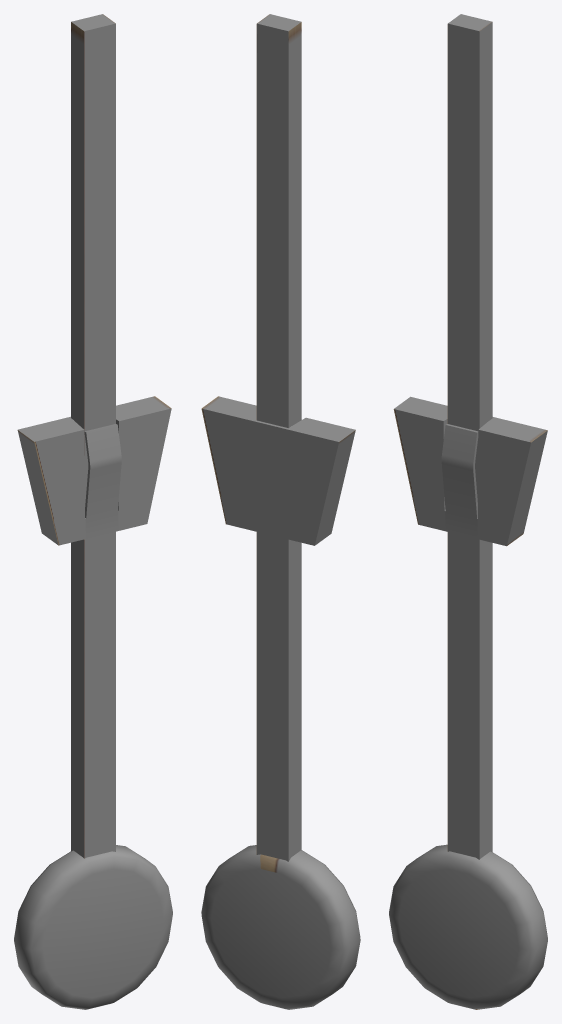
Rendered from ENV_Metronome_02.FBX.
The picture shows the model from 3 angles, left to right: view 1: azimuth 30°, elevation 25°; view 2: azimuth 150°, elevation 25°; view 3: azimuth 330°, elevation 25°; orthographic projection.
Parts seen in each view (by area): view 1: ENV_Metronome_02; view 2: ENV_Metronome_02; view 3: ENV_Metronome_02.
Boxes of the visible parts, x1=… form: ENV_Metronome_02: x1=14, y1=14, x2=172, y2=1009; ENV_Metronome_02: x1=201, y1=14, x2=360, y2=1009; ENV_Metronome_02: x1=389, y1=14, x2=547, y2=1009.
Size of the model in its own units: 12.11 by 76.15 by 3.03.
Materials: 1 (1 with a texture image).
